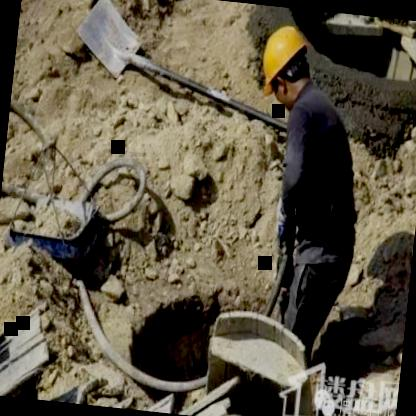helmet: (251, 19, 320, 115)
